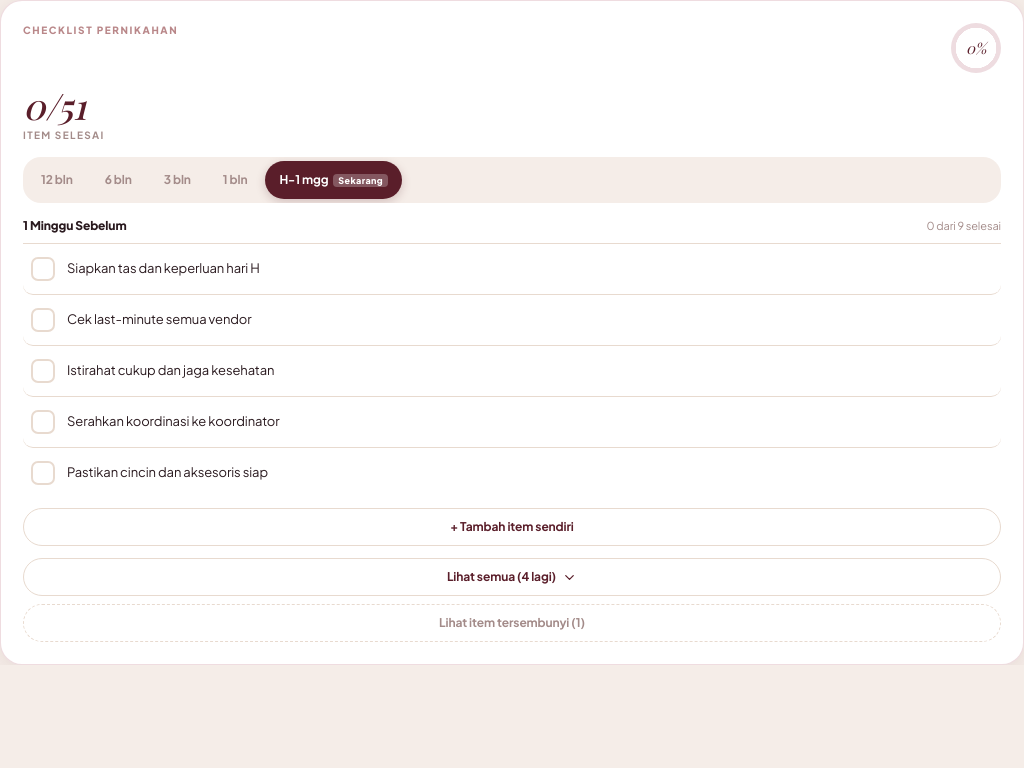
ChecklistPernikahan priority focus › allows a hidden default item to be restored
The width and height of the screenshot is (1024, 768).
Click the button "Lihat item tersembunyi (1)".
click(512, 623)  # box [23,604,1001,642]
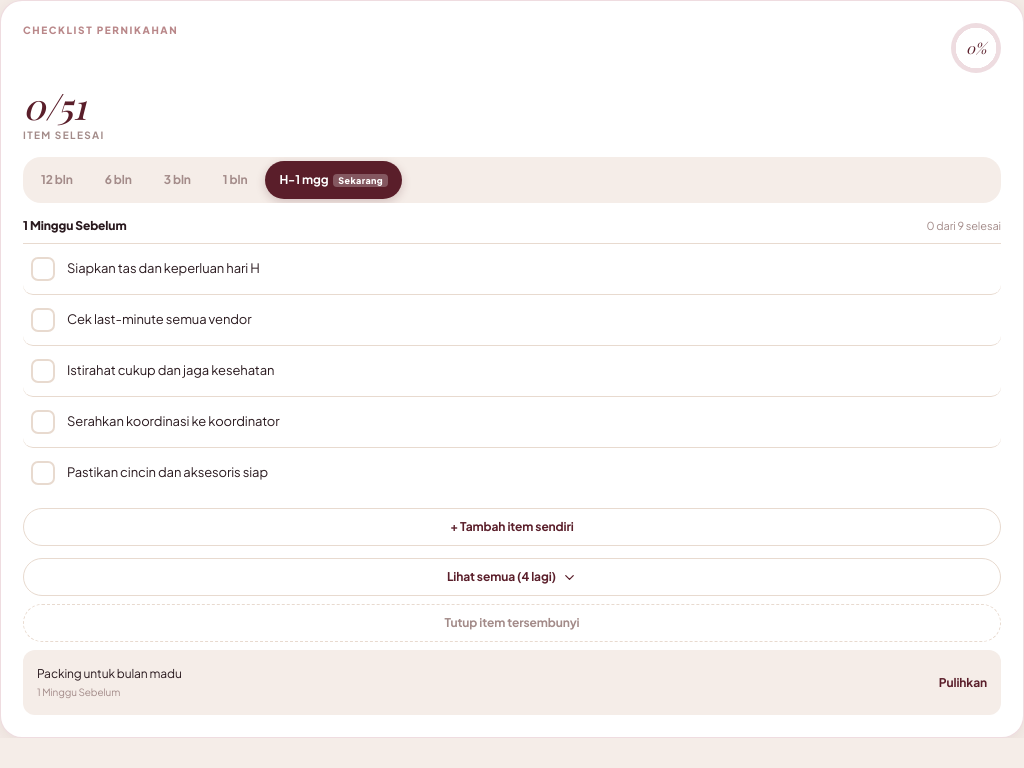
Click the button with aria-label "Pulihkan Packing untuk bulan madu".
click(963, 682)  # box [939,674,987,690]
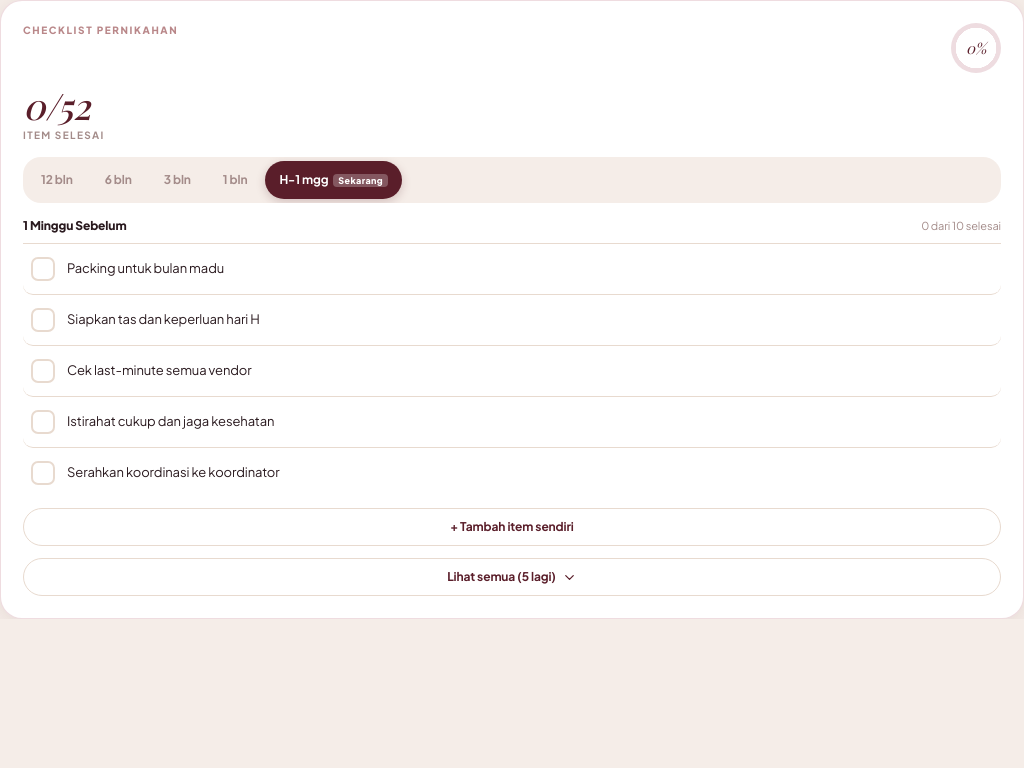
Now the text "Packing untuk bulan madu" is shown, box [67,260,224,276]
